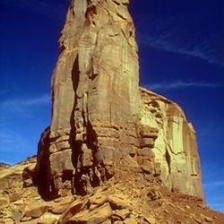neutral: (5, 4, 224, 223)
